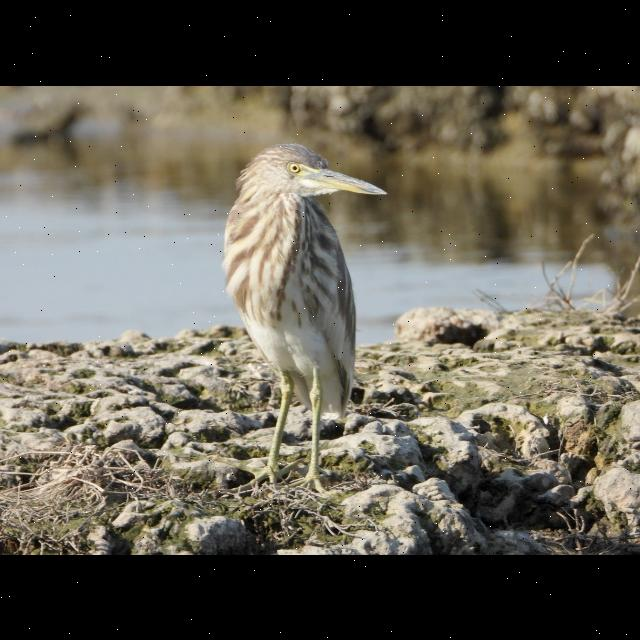heron: (210, 132, 396, 502)
